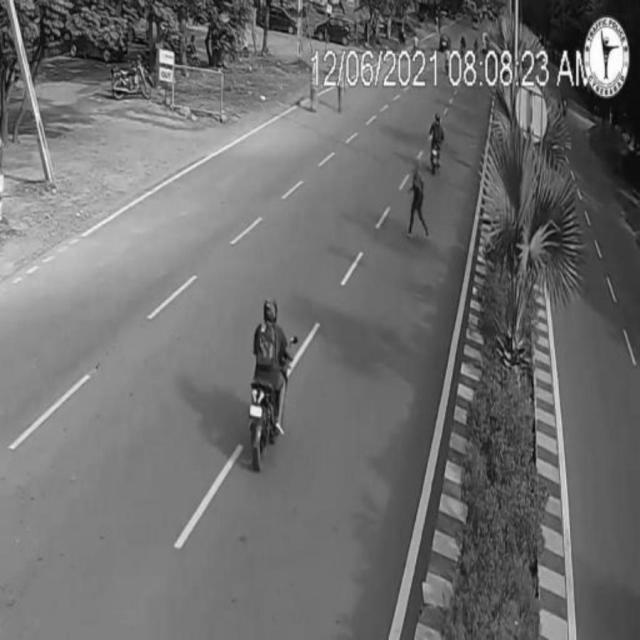person: (406, 161, 430, 243)
vehicle: (251, 292, 295, 472), (427, 112, 447, 176)
